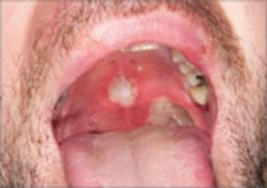Ulcer: (106, 64, 138, 111)
